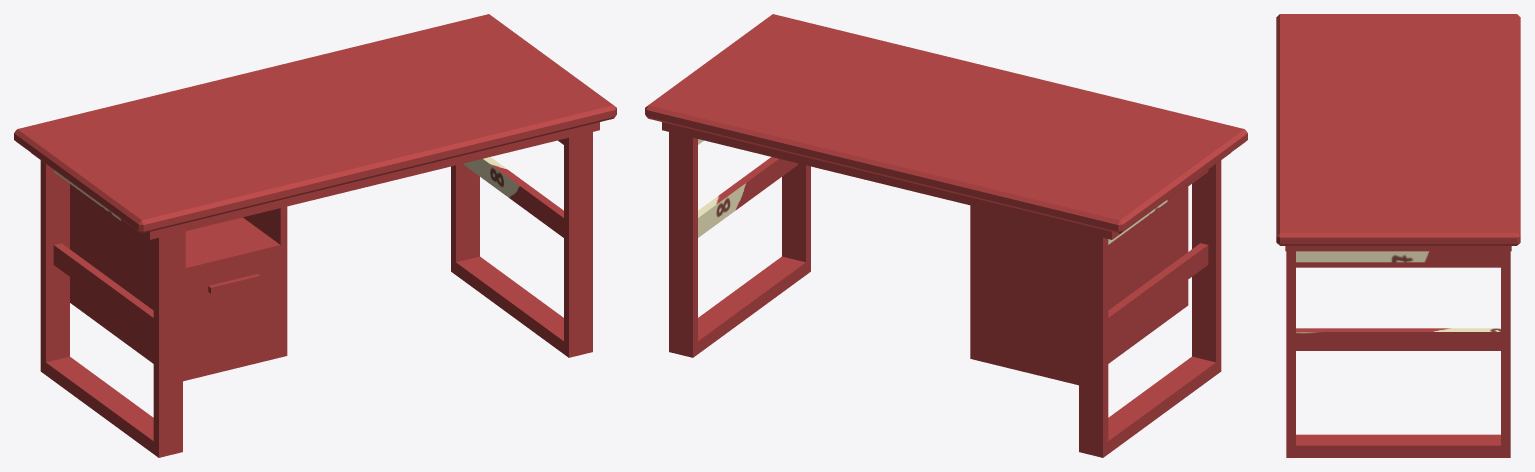
File: desk 1.fbx
3 renders of one model, left to right at view 1: azimuth 30°, elevation 25°; view 2: azimuth 150°, elevation 25°; view 3: azimuth 270°, elevation 25°, orthographic. The views are drawn at different scales.
Visible parts, largest first — view 1: desk; view 2: desk; view 3: desk.
Boxes of the visible parts, left/top/right/bottom form: desk: left=14, top=14, right=616, bottom=457; desk: left=645, top=14, right=1247, bottom=457; desk: left=1276, top=14, right=1520, bottom=457.
Bounding box in the file's own units: 142 × 69.52 × 66.
Materials: 1 (1 with a texture image).
